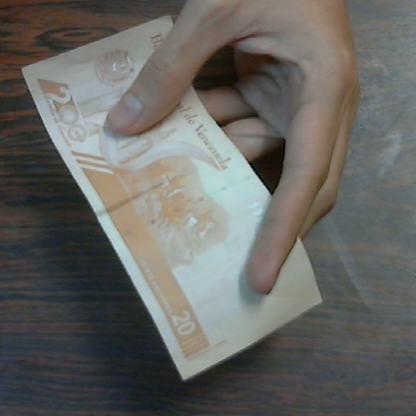vef_back: (15, 6, 325, 388)
